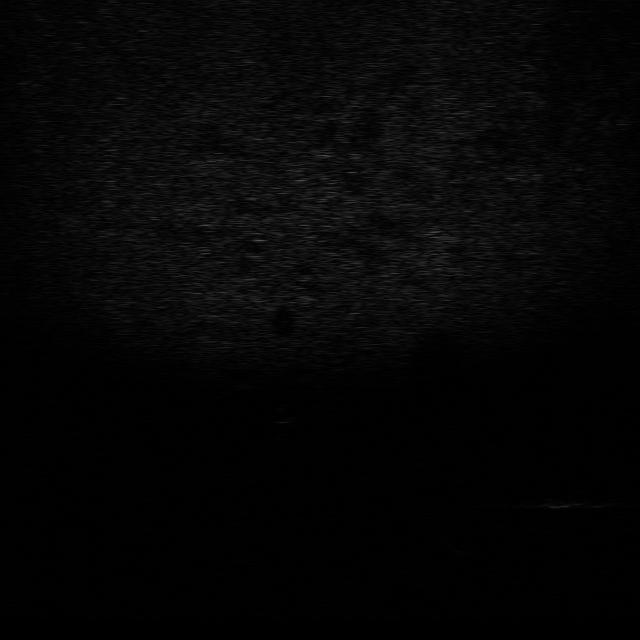ball: (268, 408, 298, 426)
metal bucket: (534, 496, 614, 510)
tyre: (419, 513, 475, 560)
